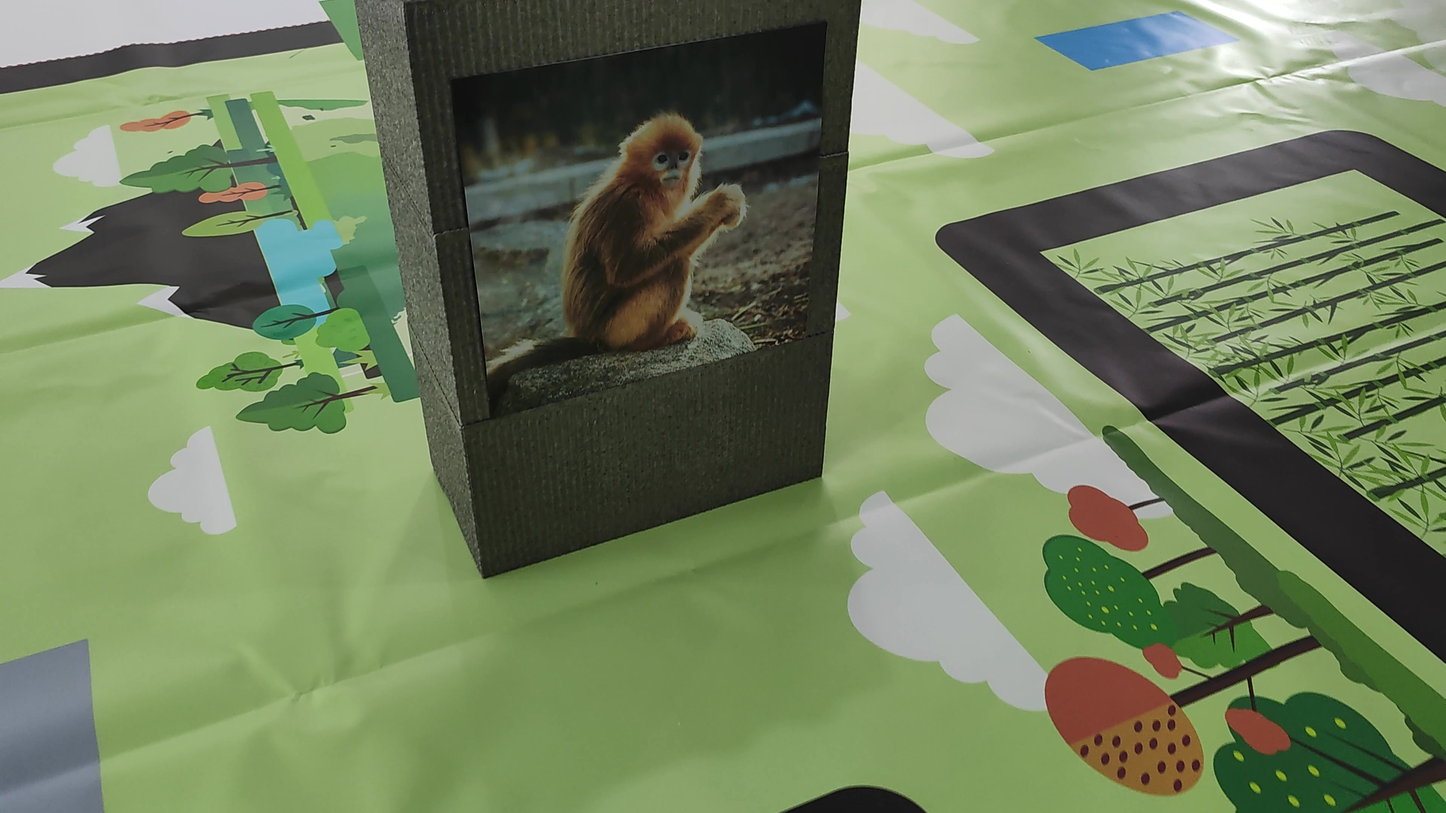monkey: (467, 104, 767, 405)
